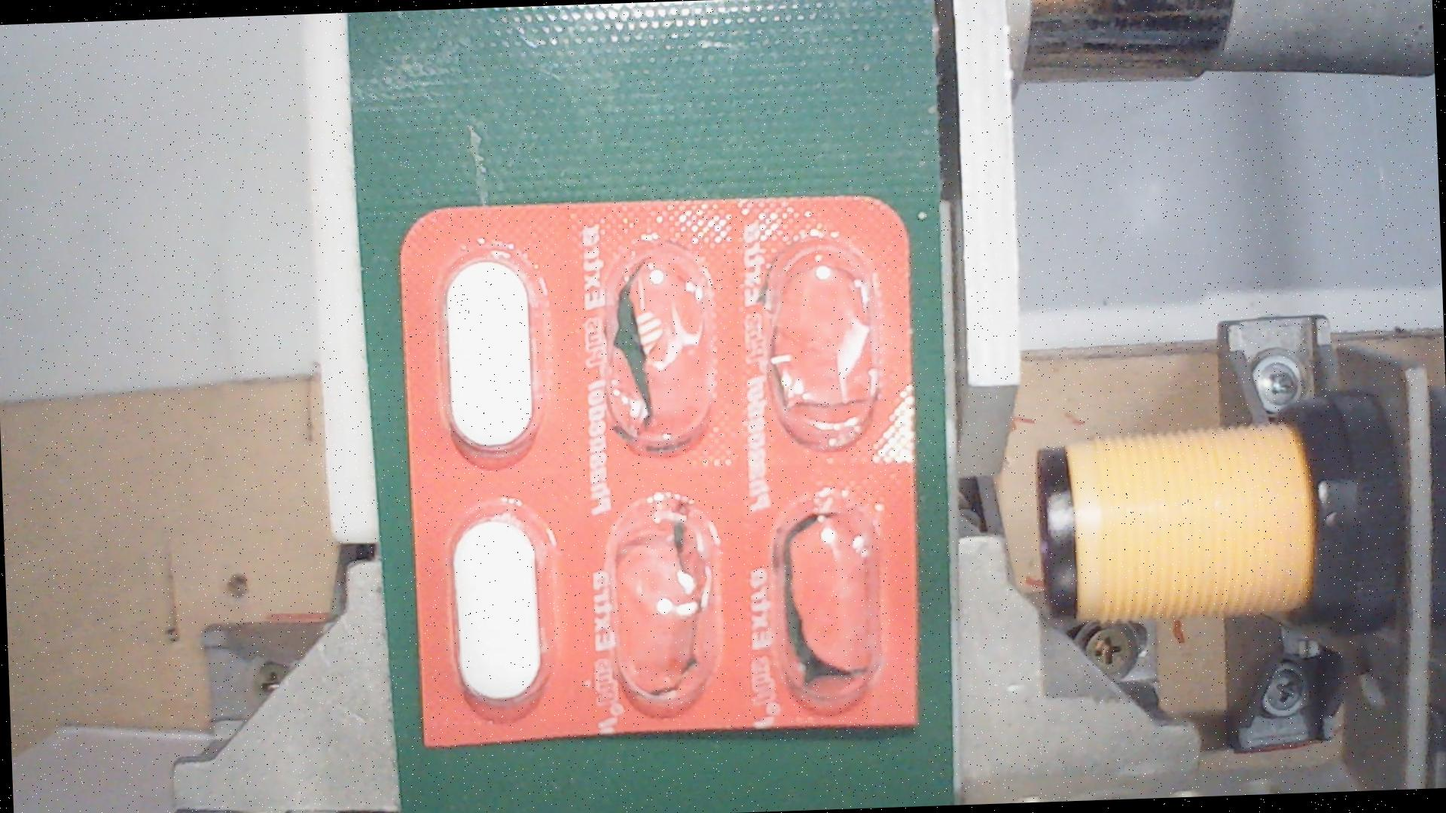Empty: (602, 492, 721, 710), (765, 233, 884, 451), (771, 494, 890, 712), (601, 241, 719, 459)
Full: (430, 254, 549, 471), (437, 496, 555, 714)
